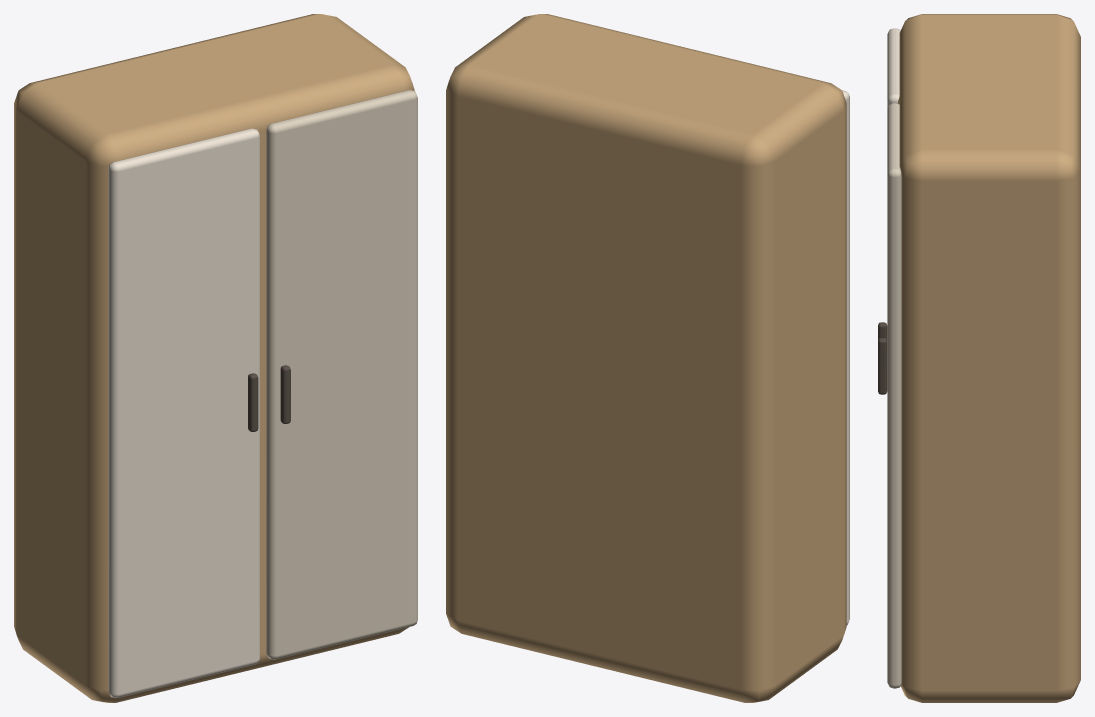
File: wardrobe.glb
The picture shows the model from 3 angles, left to right: view 1: azimuth 30°, elevation 25°; view 2: azimuth 150°, elevation 25°; view 3: azimuth 270°, elevation 25°; orthographic projection. The views are drawn at different scales.
Size of the model in its own units: 1.2 by 2 by 0.665.
